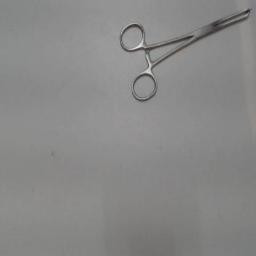Allis Tissue Forceps: (114, 4, 254, 108)
